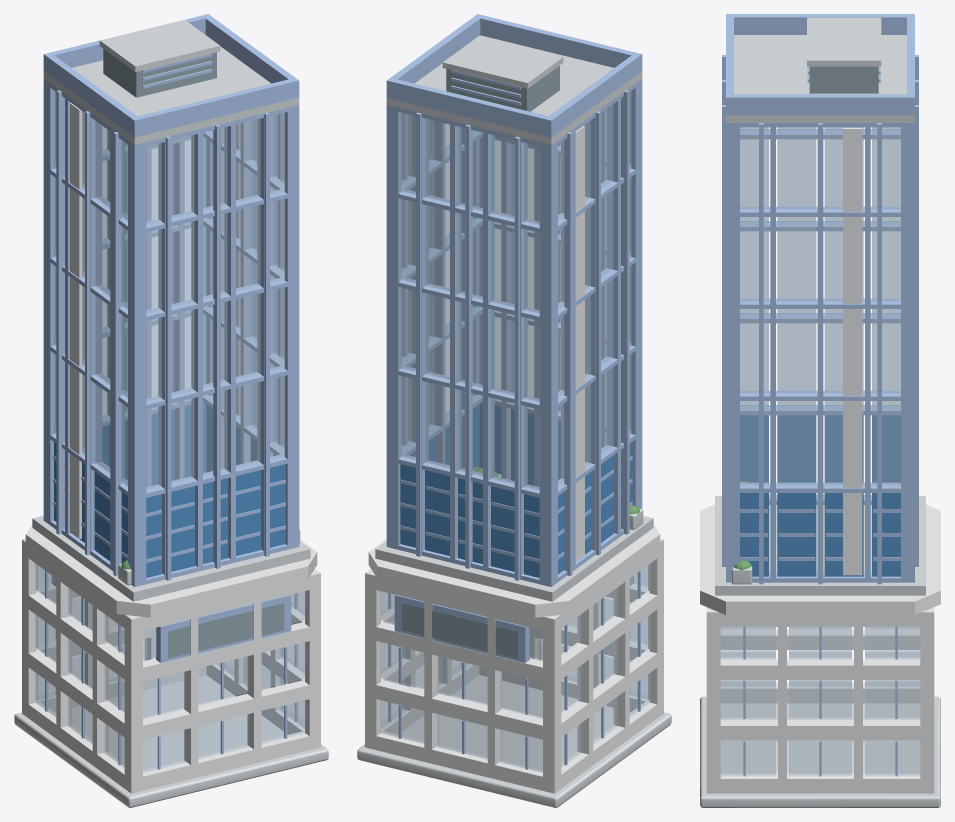
Rendered from world-trade-centre.glb.
3 renders of one model, left to right at view 1: azimuth 30°, elevation 25°; view 2: azimuth 150°, elevation 25°; view 3: azimuth 270°, elevation 25°, orthographic. The views are drawn at different scales.
Visible parts, largest first — view 1: WTC plinth, WTC office xn facade pier.004, WTC chamfered retail cornice, WTC office xp facade pier, WTC roof slab, WTC side service spine, WTC office zp facade pier.003, WTC office zp facade pier.002, WTC office xn facade pier.002, WTC office terrace, WTC office xp facade pier.002, WTC office zn facade pier.005 (+114 smaller); view 2: WTC plinth, WTC office xn facade pier, WTC chamfered retail cornice, WTC office xp facade pier.004, WTC office xn facade pier.003, WTC office zp facade pier, WTC office zn facade pier.002, WTC office zn facade pier.003, WTC roof slab, WTC office terrace, WTC side service spine, WTC office xp facade pier.002 (+114 smaller); view 3: WTC plinth, WTC side service spine.001, WTC roof slab, WTC chamfered retail cornice, WTC office terrace, WTC office zn facade pier, WTC office zp facade pier.005, WTC retail xp flush spandrel, WTC retail xp flush spandrel.001, WTC retail xp flush spandrel.002, WTC retail xn flush spandrel.001, WTC roof services plant roof (+80 smaller).
Part boxes in pixels (x1,y1,x2,y2): WTC plinth: [14, 675, 328, 807]; WTC office xn facade pier.004: [131, 142, 146, 586]; WTC chamfered retail cornice: [25, 524, 317, 617]; WTC office xp facade pier: [284, 105, 299, 545]; WTC roof slab: [43, 46, 299, 144]; WTC side service spine: [70, 103, 82, 538]; WTC office zp facade pier.003: [224, 120, 235, 562]; WTC office zp facade pier.002: [191, 129, 202, 571]; WTC office xn facade pier.002: [90, 113, 102, 554]; WTC office terrace: [32, 515, 310, 601]; WTC office xp facade pier.002: [240, 120, 254, 463]; WTC office zn facade pier.005: [43, 80, 55, 521]; WTC plinth: [357, 675, 671, 807]; WTC office xn facade pier: [539, 142, 554, 586]; WTC chamfered retail cornice: [368, 524, 660, 617]; WTC office xp facade pier.004: [386, 105, 401, 545]; WTC office xn facade pier.003: [606, 94, 620, 535]; WTC office zp facade pier: [630, 80, 642, 508]; WTC office zn facade pier.002: [450, 120, 461, 563]; WTC office zn facade pier.003: [483, 129, 494, 571]; WTC roof slab: [386, 35, 642, 144]; WTC office terrace: [375, 516, 653, 601]; WTC side service spine: [575, 125, 584, 561]; WTC office xp facade pier.002: [431, 120, 445, 463]; WTC plinth: [700, 696, 940, 807]; WTC side service spine.001: [843, 127, 862, 575]; WTC roof slab: [726, 35, 914, 122]; WTC chamfered retail cornice: [700, 504, 940, 615]; WTC office terrace: [715, 496, 925, 595]; WTC office zn facade pier: [901, 123, 914, 582]; WTC office zp facade pier.005: [726, 123, 739, 568]; WTC retail xp flush spandrel: [706, 773, 934, 793]; WTC retail xp flush spandrel.001: [720, 720, 920, 740]; WTC retail xp flush spandrel.002: [720, 659, 920, 679]; WTC retail xn flush spandrel.001: [720, 629, 920, 649]; WTC roof services plant roof: [807, 17, 881, 66].
Size of the model in its own units: 2.24 by 7.38 by 2.24.
